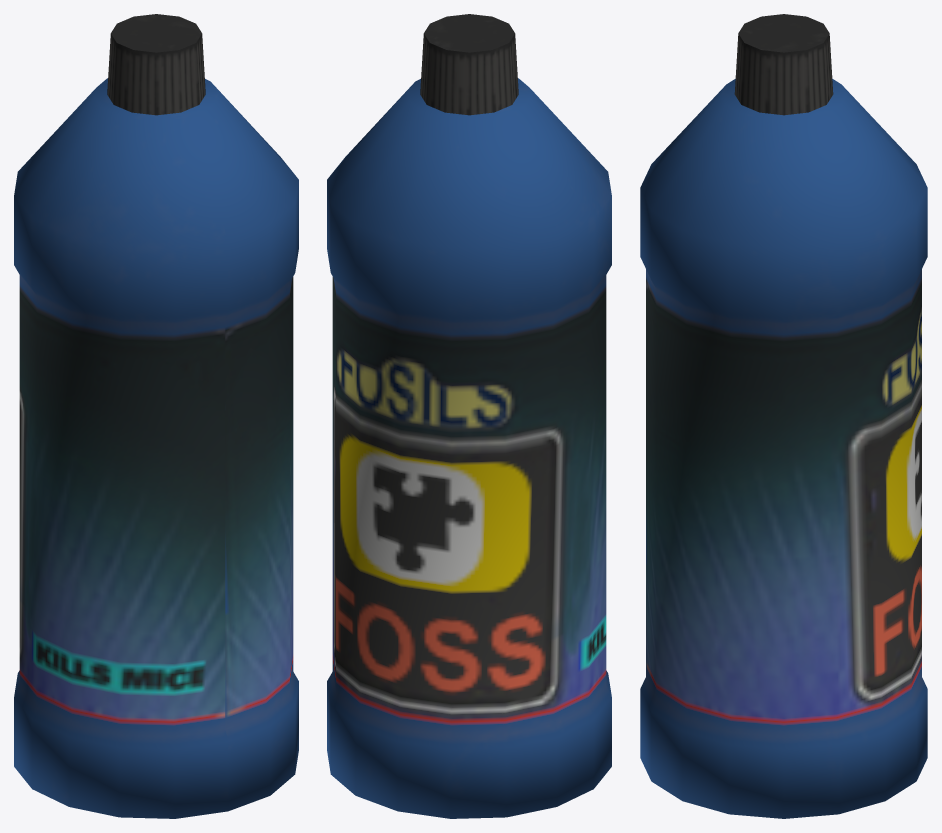
Rendered from SM_BottlePlasticC_01.fbx.
The picture shows the model from 3 angles, left to right: view 1: azimuth 30°, elevation 25°; view 2: azimuth 150°, elevation 25°; view 3: azimuth 270°, elevation 25°; orthographic projection.
Visible parts, largest first — view 1: SM_BottlePlasticC_01; view 2: SM_BottlePlasticC_01; view 3: SM_BottlePlasticC_01.
Boxes of the visible parts, box(x1,y1,x2,y2) form: SM_BottlePlasticC_01: box(14, 14, 298, 818); SM_BottlePlasticC_01: box(327, 14, 611, 818); SM_BottlePlasticC_01: box(640, 14, 927, 818).
Bounding box in the file's own units: 9.73 × 27.13 × 9.73.
